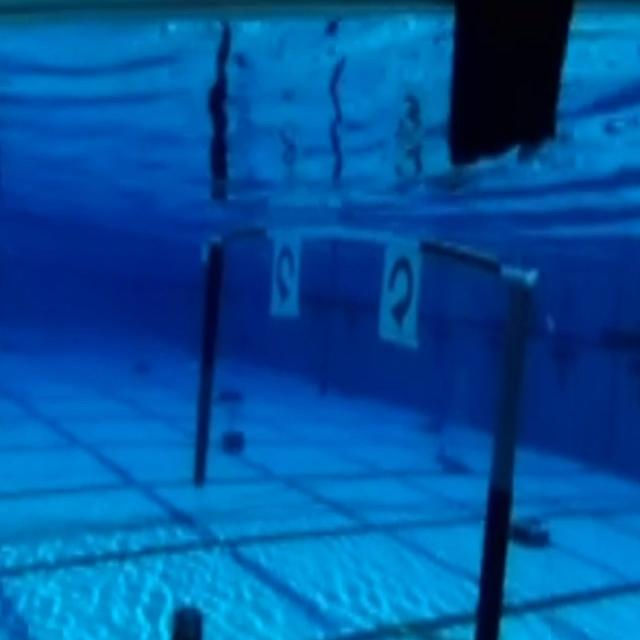Gate: (196, 227, 555, 628)
